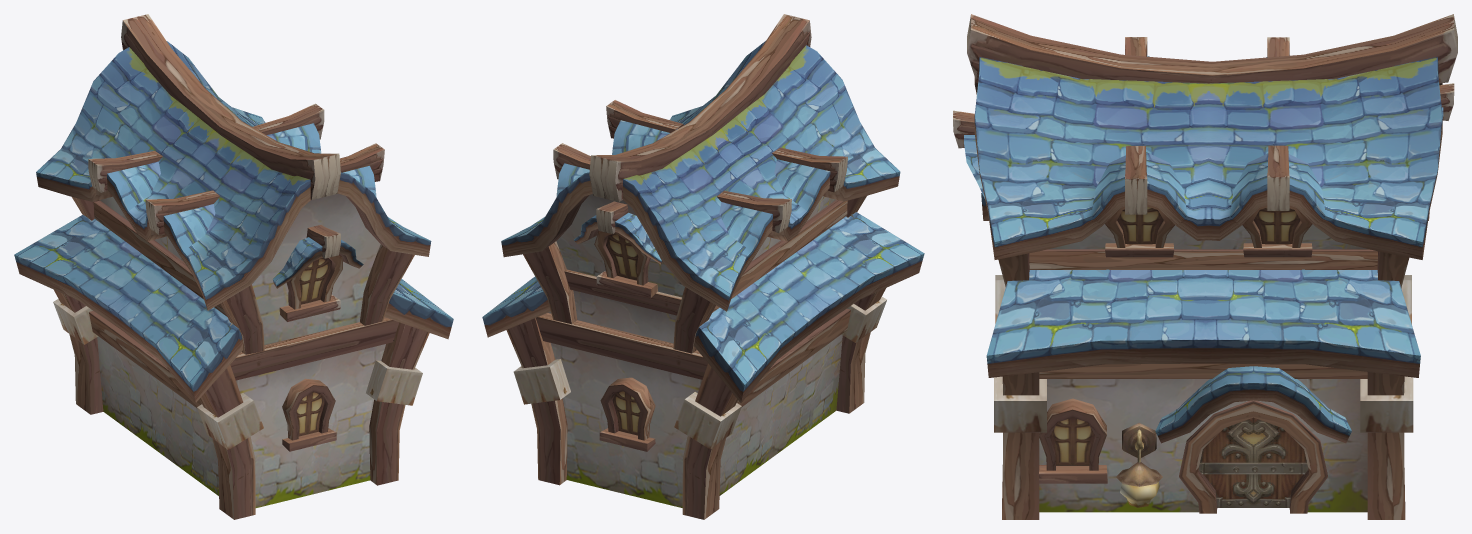
The model's file is Map_04_house02.FBX.
3 renders of one model, left to right at view 1: azimuth 30°, elevation 25°; view 2: azimuth 150°, elevation 25°; view 3: azimuth 270°, elevation 25°, orthographic. The views are drawn at different scales.
Parts seen in each view (by area): view 1: Map_04_house02; view 2: Map_04_house02; view 3: Map_04_house02.
Part boxes in pixels (left/top/right/bottom): Map_04_house02: left=14, top=14, right=453, bottom=519; Map_04_house02: left=482, top=14, right=924, bottom=519; Map_04_house02: left=953, top=14, right=1457, bottom=519.
Bounding box in the file's own units: 40.4 × 51.68 × 52.99.
